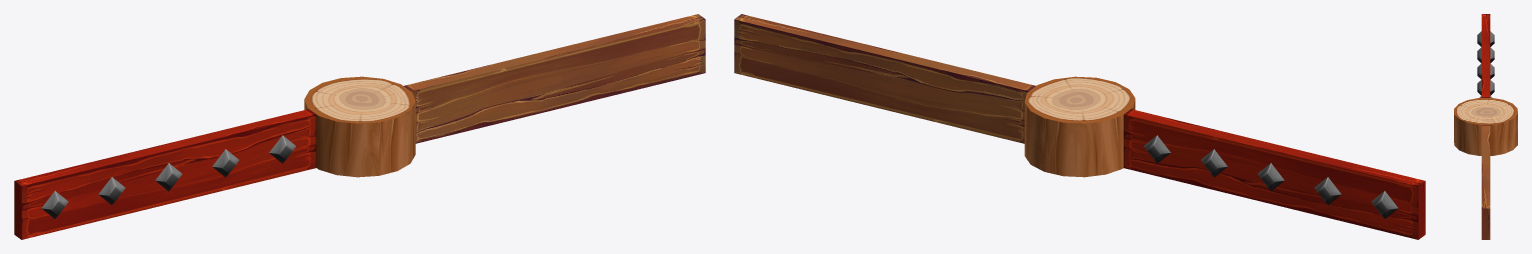
File: two_blade_double_03.fbx
The picture shows the model from 3 angles, left to right: view 1: azimuth 30°, elevation 25°; view 2: azimuth 150°, elevation 25°; view 3: azimuth 270°, elevation 25°; orthographic projection. The views are drawn at different scales.
Parts seen in each view (by area): view 1: two_blade_double_03; view 2: two_blade_double_03; view 3: two_blade_double_03.
Boxes of the visible parts, <box> form: two_blade_double_03: <box>14,14,705,239</box>; two_blade_double_03: <box>734,14,1425,239</box>; two_blade_double_03: <box>1454,14,1517,239</box>.
Size of the model in its own units: 534 by 40 by 74.15.
